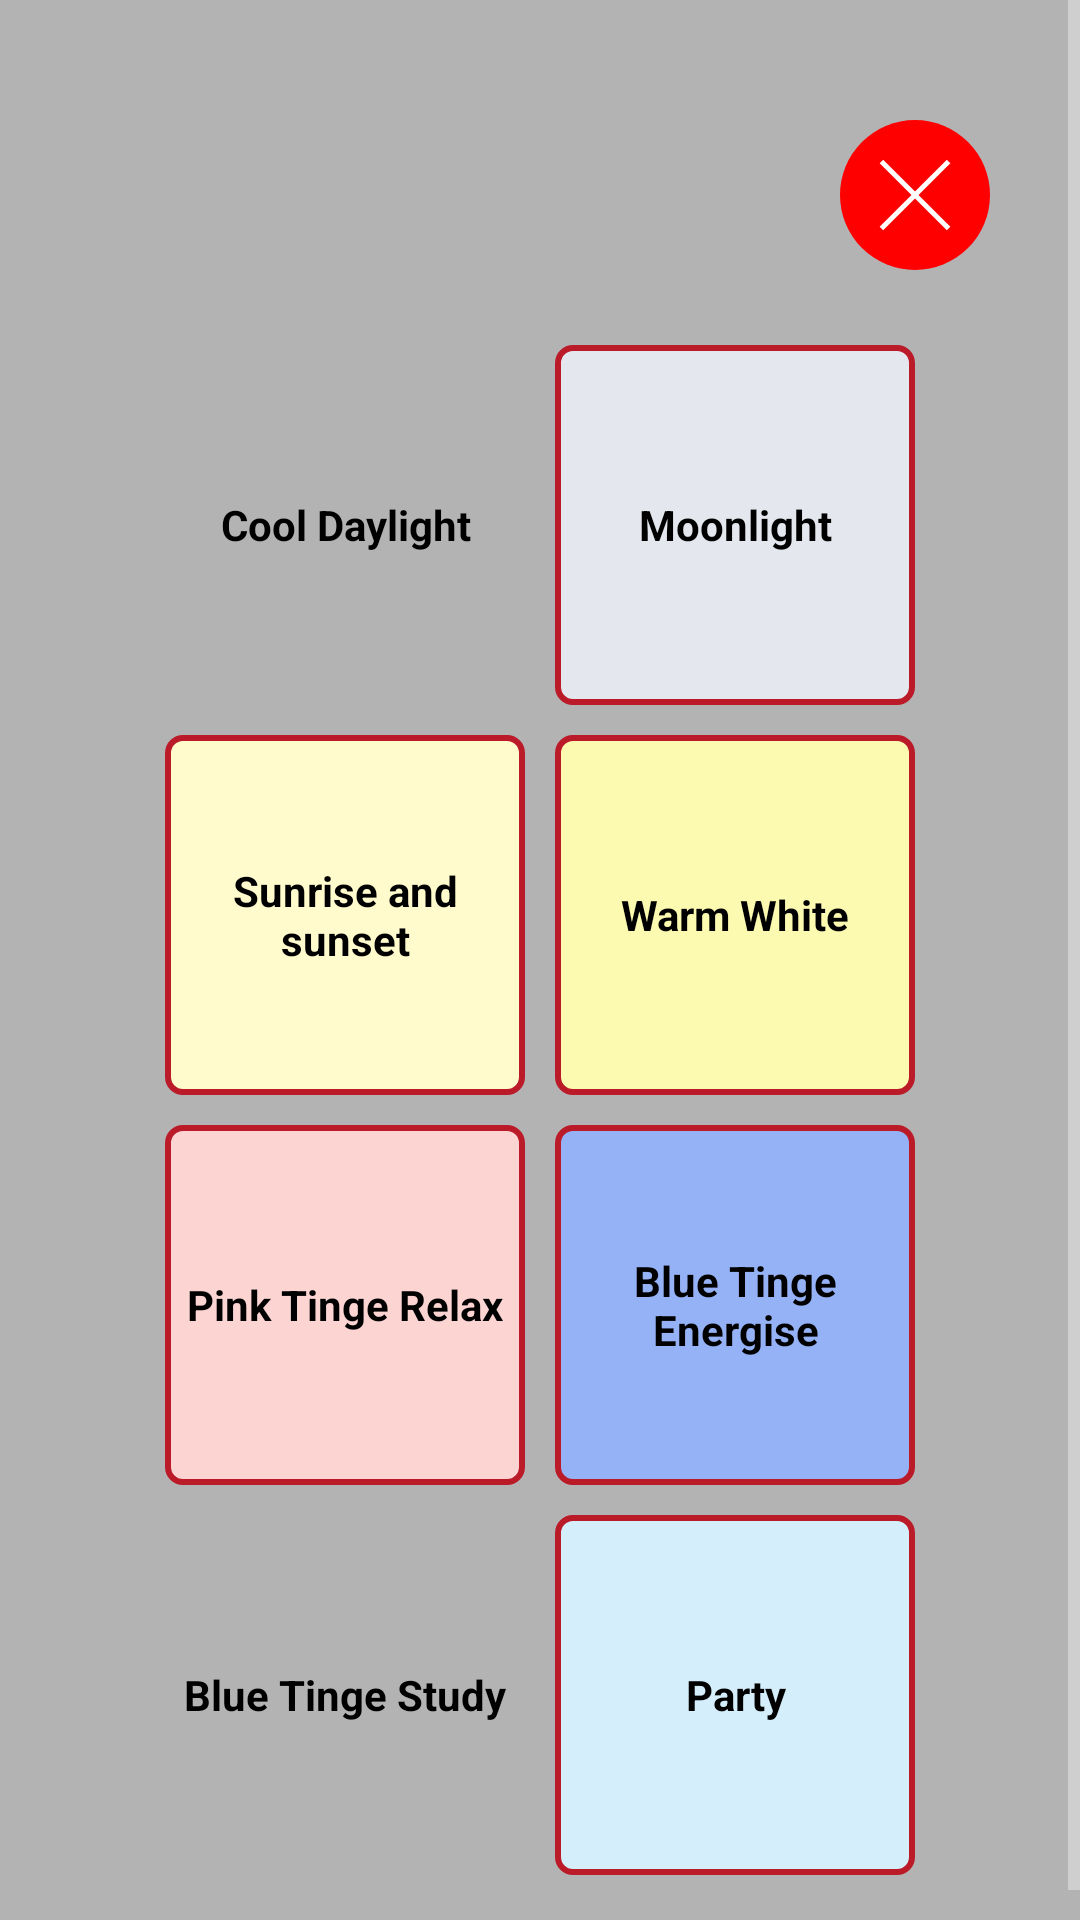

Where to tap for icons on this 1080w x 1920h app screen, as [x,y]:
close: [915,195]
